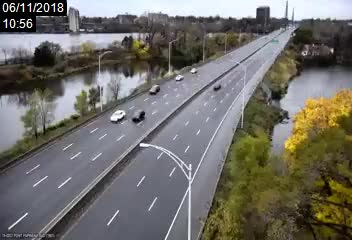personal_car: (130, 108, 145, 123), (110, 109, 126, 123), (148, 84, 161, 95), (212, 81, 222, 91), (174, 74, 184, 83), (191, 66, 198, 75)
